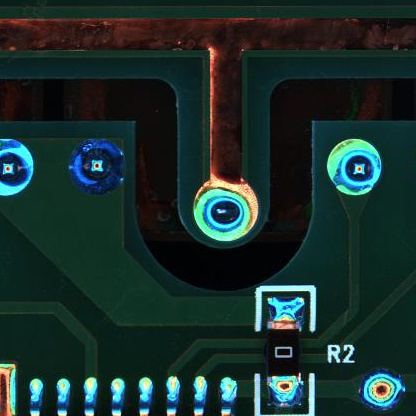spot: (191, 180, 262, 241), (324, 139, 382, 195), (68, 138, 124, 195), (1, 137, 36, 201), (358, 370, 409, 409)
